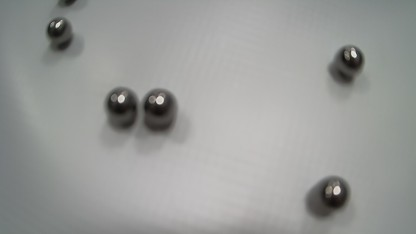ironball: (143, 88, 177, 130), (105, 87, 137, 128), (333, 45, 364, 79), (46, 17, 73, 49), (321, 176, 348, 208), (60, 0, 77, 6)
